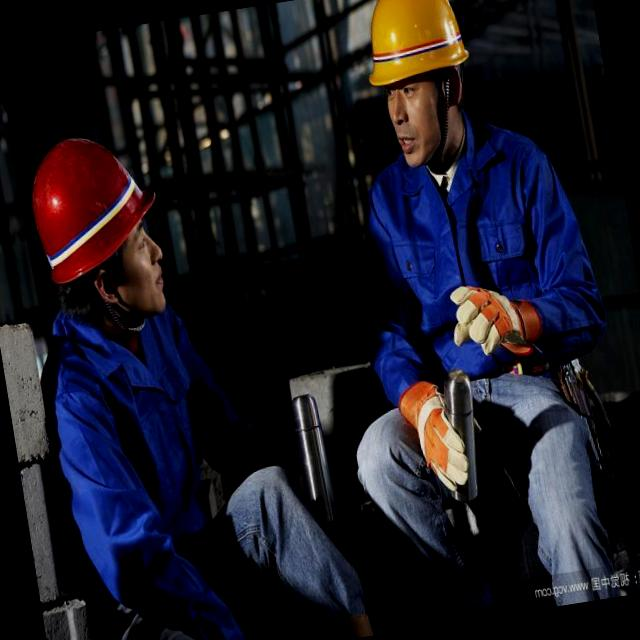gloves: (425, 267, 542, 379), (391, 369, 474, 518)
helmet: (12, 115, 174, 294), (340, 0, 483, 95)
no-vest: (34, 284, 248, 626), (378, 106, 579, 420)
